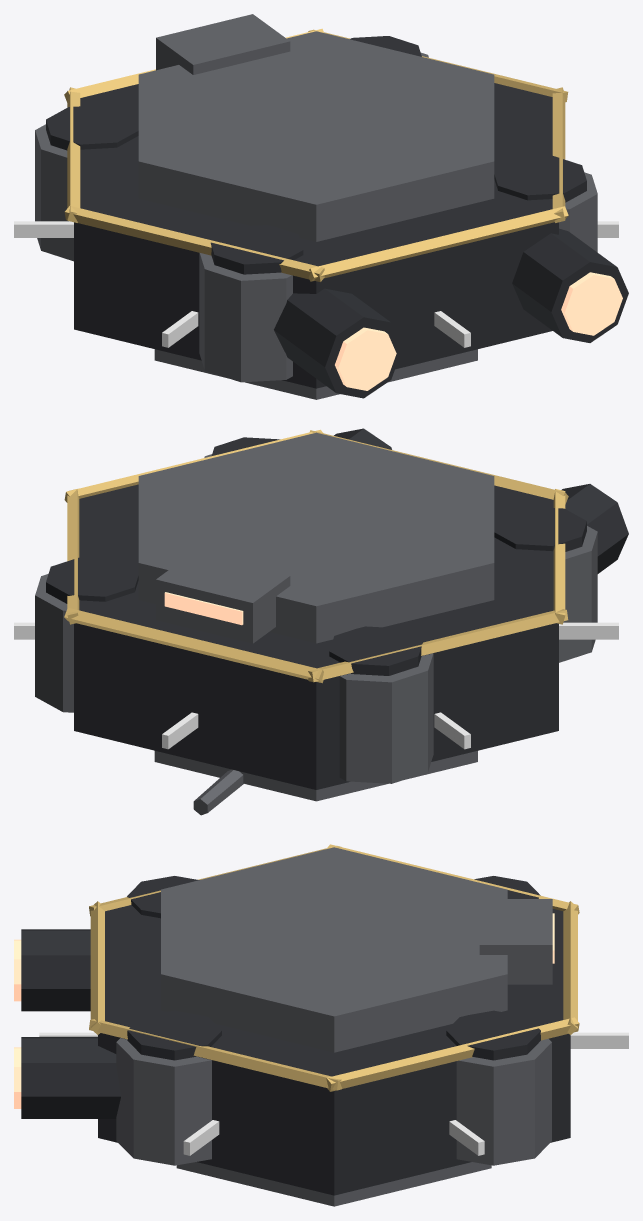
Rendered from Aegis_Mothership.fbx.
3 renders of one model, top to bottom at view 1: azimuth 30°, elevation 25°; view 2: azimuth 150°, elevation 25°; view 3: azimuth 270°, elevation 25°, orthographic. The views are drawn at different scales.
Visible parts, largest first — view 1: MOM_Top, MOM_Hull, MOM_Gold, MOM_Bay2, MOM_Engine-1, MOM_Engine1, MOM_Bridge, MOM_HatchLid2, MOM_Bay1, MOM_HatchLid1, MOM_HatchLid3, MOM_EngineGlow-1 (+7 smaller); view 2: MOM_Hull, MOM_Top, MOM_Gold, MOM_Bay1, MOM_Bridge, MOM_Bay0, MOM_HatchLid1, MOM_Bay2, MOM_HatchLid2, MOM_HatchLid0, MOM_Keel, MOM_Engine-1 (+6 smaller); view 3: MOM_Top, MOM_Hull, MOM_Gold, MOM_Bay0, MOM_Bay3, MOM_Engine1, MOM_Engine-1, MOM_Bridge, MOM_Keel, MOM_HatchLid3, MOM_HatchLid0, MOM_HatchLid2 (+4 smaller).
Boxes of the visible parts, box(x1,y1,x2,y2) form: MOM_Top: box(138, 31, 494, 241); MOM_Hull: box(74, 83, 558, 388); MOM_Gold: box(64, 28, 568, 282); MOM_Bay2: box(199, 252, 292, 382); MOM_Engine-1: box(274, 288, 402, 398); MOM_Engine1: box(512, 228, 628, 342); MOM_Bridge: box(156, 14, 290, 74); MOM_HatchLid2: box(209, 225, 303, 274); MOM_Bay1: box(35, 124, 73, 261); MOM_HatchLid1: box(46, 105, 138, 150); MOM_HatchLid3: box(494, 155, 586, 202); MOM_EngineGlow-1: box(335, 327, 396, 390); MOM_Hull: box(74, 484, 558, 789); MOM_Top: box(138, 432, 494, 643); MOM_Gold: box(64, 429, 568, 683); MOM_Bay1: box(339, 653, 433, 783); MOM_Bridge: box(156, 552, 290, 643); MOM_Bay0: box(35, 574, 73, 712); MOM_HatchLid1: box(329, 626, 423, 675); MOM_Bay2: box(559, 526, 597, 662); MOM_HatchLid2: box(494, 506, 586, 551); MOM_HatchLid0: box(46, 557, 138, 603); MOM_Keel: box(154, 751, 477, 801); MOM_Engine-1: box(561, 484, 628, 573); MOM_Top: box(161, 847, 507, 1052); MOM_Hull: box(98, 905, 570, 1195); MOM_Gold: box(89, 844, 579, 1091); MOM_Bay0: box(456, 1038, 551, 1165); MOM_Bay3: box(116, 1038, 211, 1165); MOM_Engine1: box(21, 1037, 121, 1118); MOM_Engine-1: box(21, 929, 90, 1011); MOM_Bridge: box(479, 899, 552, 984); MOM_Keel: box(176, 1162, 491, 1206); MOM_HatchLid3: box(127, 1010, 221, 1060); MOM_HatchLid0: box(446, 1010, 540, 1060); MOM_HatchLid2: box(127, 876, 199, 918).
Bounding box in the file's own units: 1.55 × 0.655 × 1.69.
